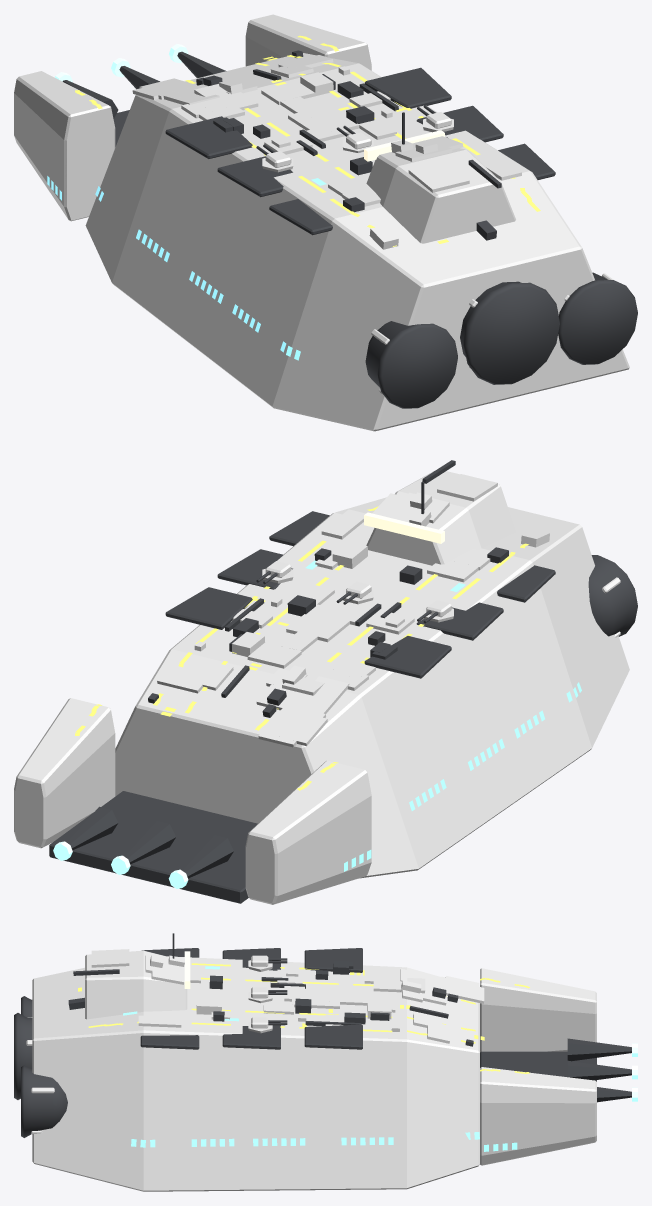
Rendered from burlak.glb.
3 renders of one model, top to bottom at view 1: azimuth 30°, elevation 25°; view 2: azimuth 150°, elevation 25°; view 3: azimuth 270°, elevation 25°, orthographic. The views are drawn at different scales.
Parts seen in each view (by area): view 1: Корпус, Накладные_плиты, Челюсть.001, Мостик, Кожух_дюзы.002, Кожух_дюзы.001, Кожух_дюзы, Челюсть, Механика, Люк_бункера, Люк_бункера.003, Разметка (+7 smaller); view 2: Корпус, Накладные_плиты, Челюсть.001, Челюсть, Рудоприёмник, Мостик, Механика, Кожух_дюзы.001, Люк_бункера, Люк_бункера.003, Разметка, Люк_бункера.004 (+8 smaller); view 3: Корпус, Челюсть, Накладные_плиты, Челюсть.001, Мостик, Механика, Кожух_дюзы, Рудоприёмник, Люк_бункера, Решётки, Разметка, Кожух_дюзы.002 (+7 smaller).
Part boxes in pixels (x1,y1,x2,y2): Корпус: [85, 53, 629, 431]; Накладные_плиты: [132, 55, 521, 249]; Челюсть.001: [14, 71, 115, 221]; Мостик: [366, 148, 515, 243]; Кожух_дюзы.002: [460, 281, 559, 384]; Кожух_дюзы.001: [365, 321, 457, 408]; Кожух_дюзы: [558, 272, 637, 364]; Челюсть: [245, 14, 371, 70]; Механика: [196, 50, 501, 240]; Люк_бункера: [364, 67, 451, 108]; Люк_бункера.003: [165, 116, 252, 158]; Разметка: [75, 35, 540, 246]; Корпус: [115, 497, 629, 878]; Накладные_плиты: [157, 474, 549, 747]; Челюсть.001: [245, 760, 371, 904]; Челюсть: [14, 698, 115, 848]; Рудоприёмник: [49, 791, 257, 903]; Мостик: [366, 471, 515, 565]; Механика: [148, 460, 508, 717]; Кожух_дюзы.001: [588, 555, 637, 636]; Люк_бункера: [165, 587, 252, 629]; Люк_бункера.003: [364, 636, 451, 678]; Разметка: [75, 506, 528, 790]; Люк_бункера.004: [416, 602, 503, 640]; Корпус: [32, 956, 479, 1191]; Челюсть: [480, 1067, 596, 1165]; Накладные_плиты: [91, 949, 484, 1043]; Челюсть.001: [480, 968, 596, 1052]; Мостик: [85, 950, 187, 1019]; Механика: [68, 933, 473, 1046]; Кожух_дюзы: [21, 1065, 67, 1137]; Рудоприёмник: [480, 1051, 596, 1081]; Люк_бункера: [304, 1024, 362, 1049]; Решётки: [123, 966, 517, 1151]; Разметка: [78, 963, 529, 1073]; Кожух_дюзы.002: [14, 1013, 32, 1099].
Bounding box in the file's own units: 0.9958 × 0.7295 × 2.13.
